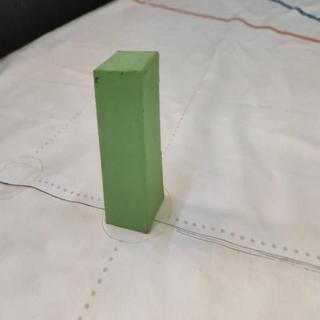greenbox: (94, 48, 171, 235)
